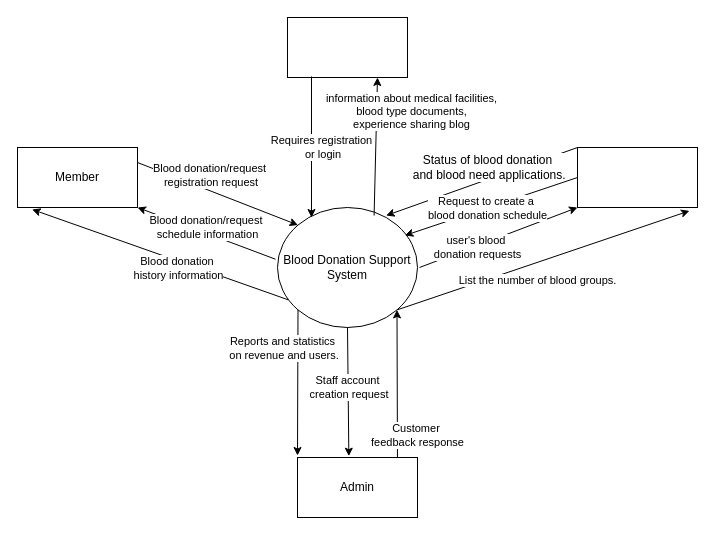
Image size: 715x535. Some labels were removed from this diagram. Each missing label, with the centre of its shape:
"Guest" belongs at pixel 347 47.
"Staff" belongs at pixel 637 177.
